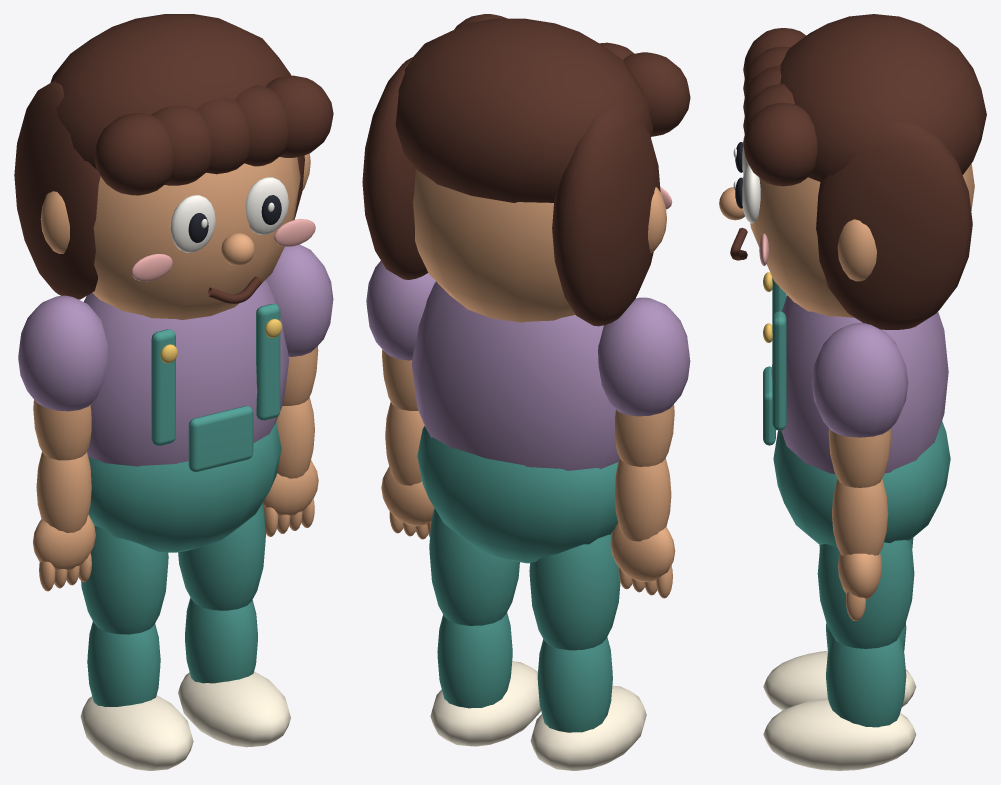
The model's file is mommy-walk.glb.
3 views of the same model, side by side, from view 1: azimuth 30°, elevation 25°; view 2: azimuth 150°, elevation 25°; view 3: azimuth 270°, elevation 25° (orthographic). The views are drawn at different scales.
Visible parts, largest first — view 1: soft shirt, hair cap, clay head, overalls, bob hair, shirt sleeve, trouser leg, little shoe, little shoe.001, trouser leg.001, fringe, shirt sleeve.001 (+22 smaller); view 2: hair cap, soft shirt, bob hair, overalls, clay head, shirt sleeve, trouser leg, bob hair.001, trouser leg.001, lower leg, lower leg.001, little shoe (+10 smaller); view 3: bob hair.001, hair cap, soft shirt, shirt sleeve.001, overalls, clay head, little shoe.001, trouser leg.001, lower leg.001, fringe.004, forearm.001, little shoe (+11 smaller).
Part boxes in pixels (x1=…): soft shirt: x1=84, y1=280, x2=288, y2=466; hair cap: x1=50, y1=14, x2=291, y2=169; clay head: x1=92, y1=157, x2=300, y2=319; overalls: x1=88, y1=422, x2=281, y2=552; bob hair: x1=14, y1=80, x2=100, y2=299; shirt sleeve: x1=18, y1=295, x2=107, y2=411; trouser leg: x1=81, y1=525, x2=168, y2=634; little shoe: x1=80, y1=695, x2=193, y2=770; little shoe.001: x1=178, y1=671, x2=290, y2=747; trouser leg.001: x1=178, y1=503, x2=265, y2=610; fringe: x1=94, y1=113, x2=173, y2=195; shirt sleeve.001: x1=266, y1=244, x2=333, y2=356; hair cap: x1=395, y1=18, x2=653, y2=202; soft shirt: x1=411, y1=281, x2=619, y2=470; bob hair: x1=552, y1=107, x2=660, y2=326; overalls: x1=417, y1=426, x2=618, y2=563; clay head: x1=413, y1=169, x2=575, y2=322; shirt sleeve: x1=598, y1=297, x2=690, y2=416; trouser leg: x1=529, y1=530, x2=620, y2=650; bob hair.001: x1=362, y1=57, x2=428, y2=279; trouser leg.001: x1=429, y1=508, x2=519, y2=625; lower leg: x1=537, y1=637, x2=612, y2=732; lower leg.001: x1=437, y1=612, x2=512, y2=708; little shoe: x1=530, y1=685, x2=646, y2=770; bob hair.001: x1=816, y1=121, x2=972, y2=329; hair cap: x1=780, y1=14, x2=986, y2=181; soft shirt: x1=771, y1=295, x2=948, y2=473; shirt sleeve.001: x1=811, y1=323, x2=908, y2=437; overalls: x1=773, y1=421, x2=950, y2=546; clay head: x1=748, y1=163, x2=974, y2=317; little shoe.001: x1=763, y1=698, x2=916, y2=770; trouser leg.001: x1=817, y1=540, x2=914, y2=648; lower leg.001: x1=826, y1=636, x2=906, y2=727; fringe.004: x1=743, y1=102, x2=817, y2=186; forearm.001: x1=832, y1=479, x2=888, y2=555; little shoe: x1=763, y1=651, x2=916, y2=710.
Size of the model in its own units: 0.957 by 2.14 by 0.7315.
